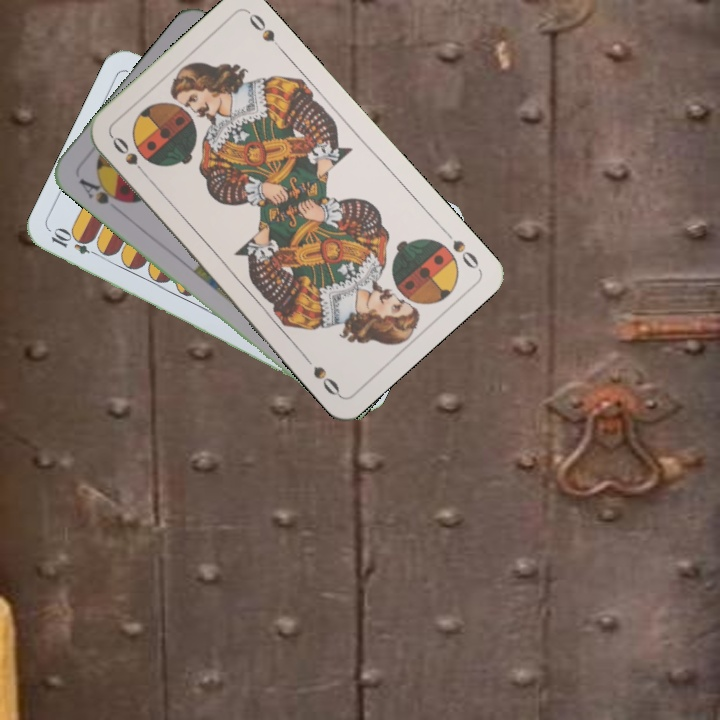E10: (47, 226, 104, 260)
SA: (74, 174, 129, 207)
SO: (107, 132, 151, 181), (448, 236, 482, 272)
